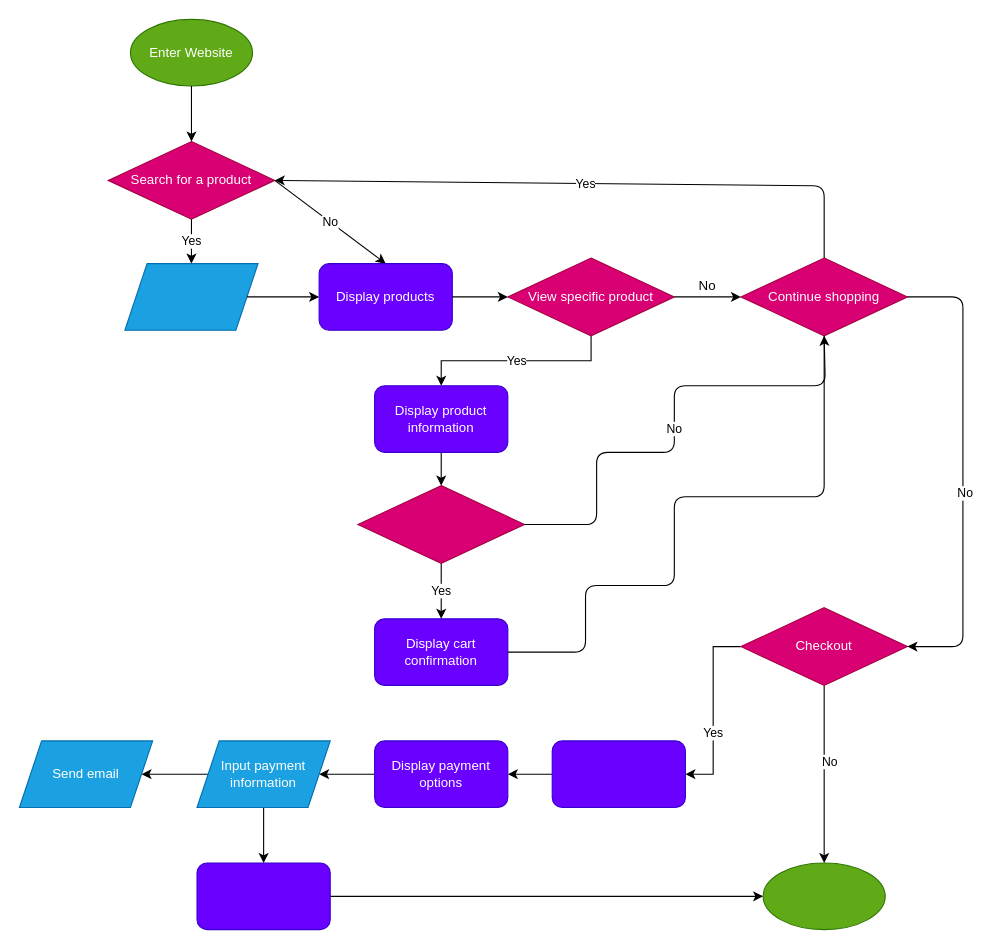
Image size: 991x949. Some labels were removed from this diagram. The centre of each missing label's shape, as x and y in pixels:
Add to cart: the point at 440,524
Display cart contents: the point at 618,774
Display order confirmation: the point at 263,896
Leave Website: the point at 823,896
Search for product: the point at 191,296
